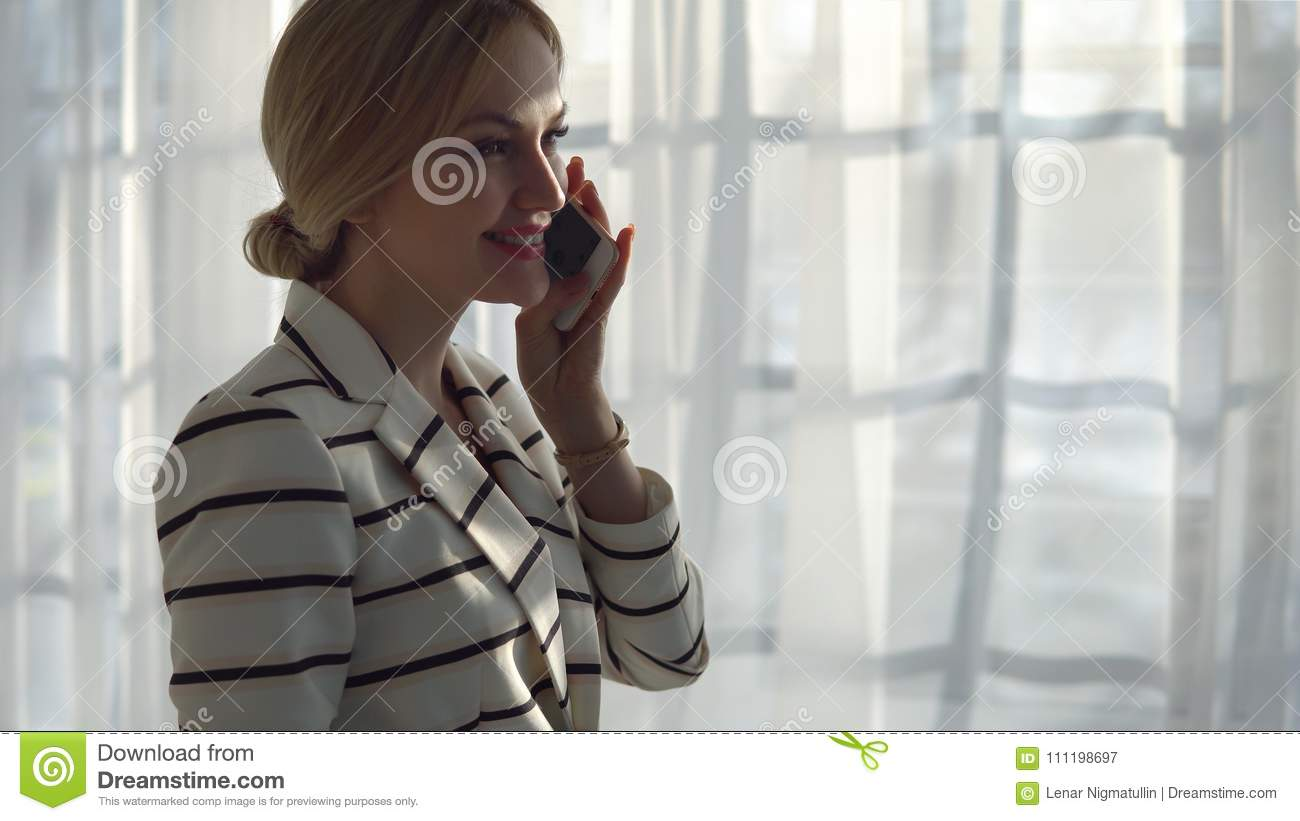phone: (540, 187, 622, 338)
talk: (447, 96, 633, 442)
